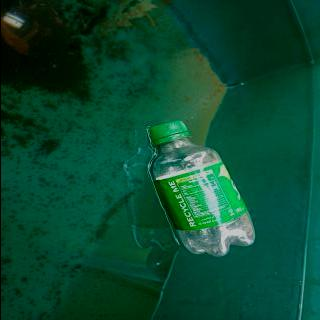bottle: (144, 118, 256, 258)
